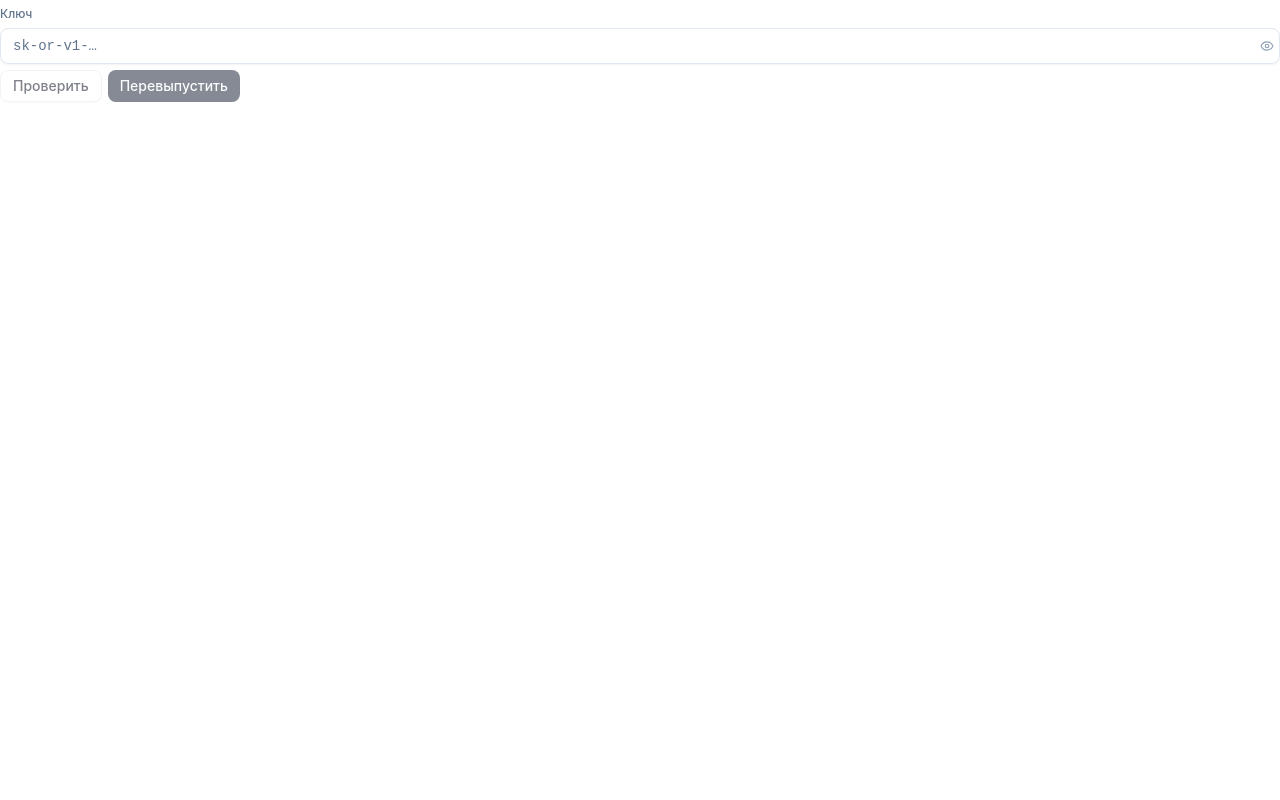
Test: KeyIssueForm › перевыпуск поверх своего ключа не уходит без подтверждения
Type "sk-or-v1-abcdefghijklmnop" into the password field named "Ключ OpenRouter".
click(640, 46); type("sk-or-v1-abcdefghijklmnop")  # box 0,28 -> 1279,64
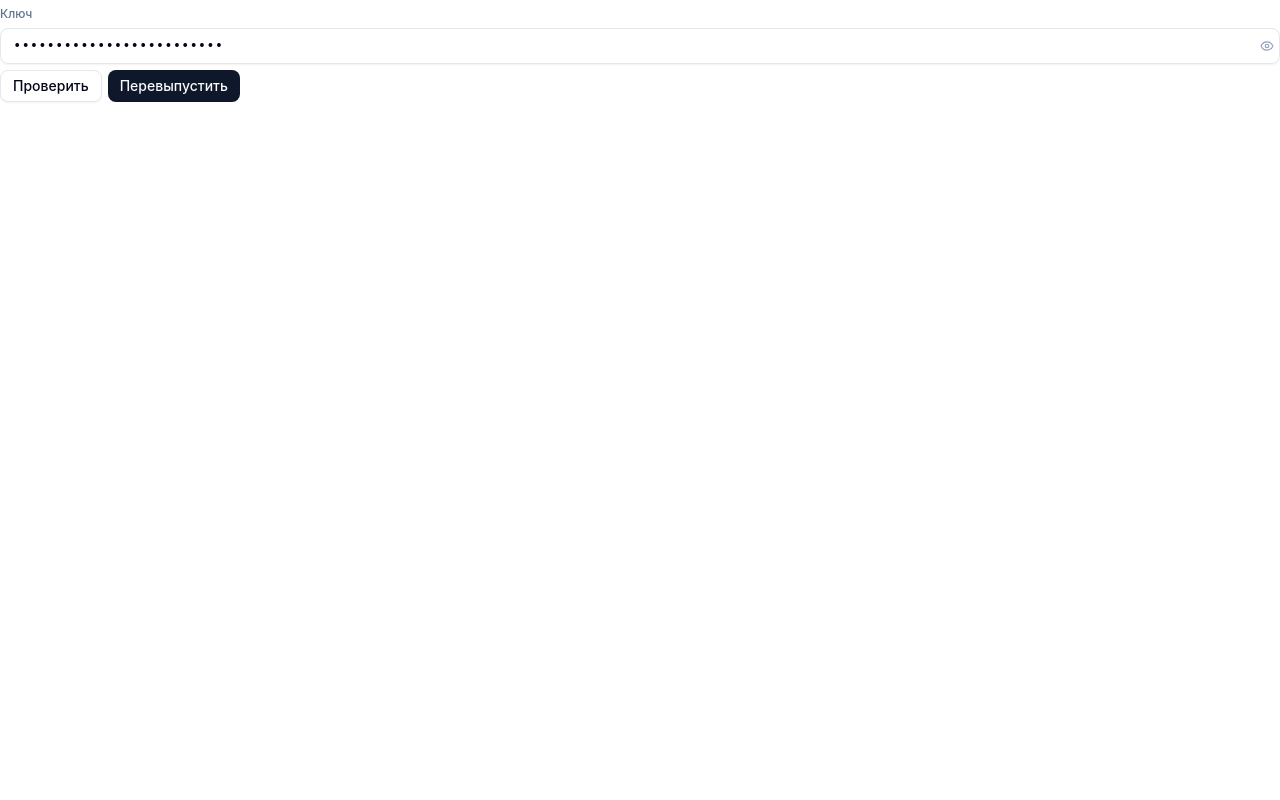
Click the button "Перевыпустить".
click(174, 86)  # box 108,70 -> 240,102
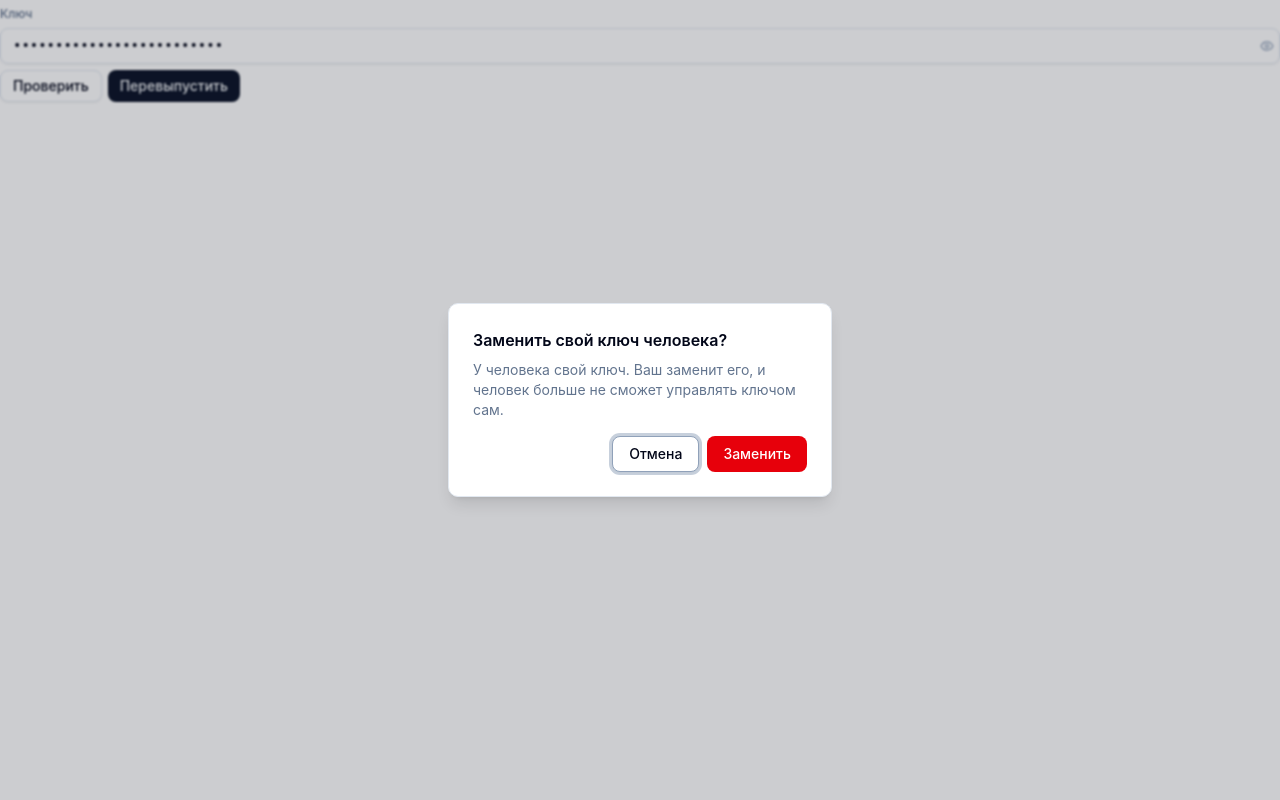
Expected: the text "Ваш заменит его" is shown, 473,361 -> 796,418
